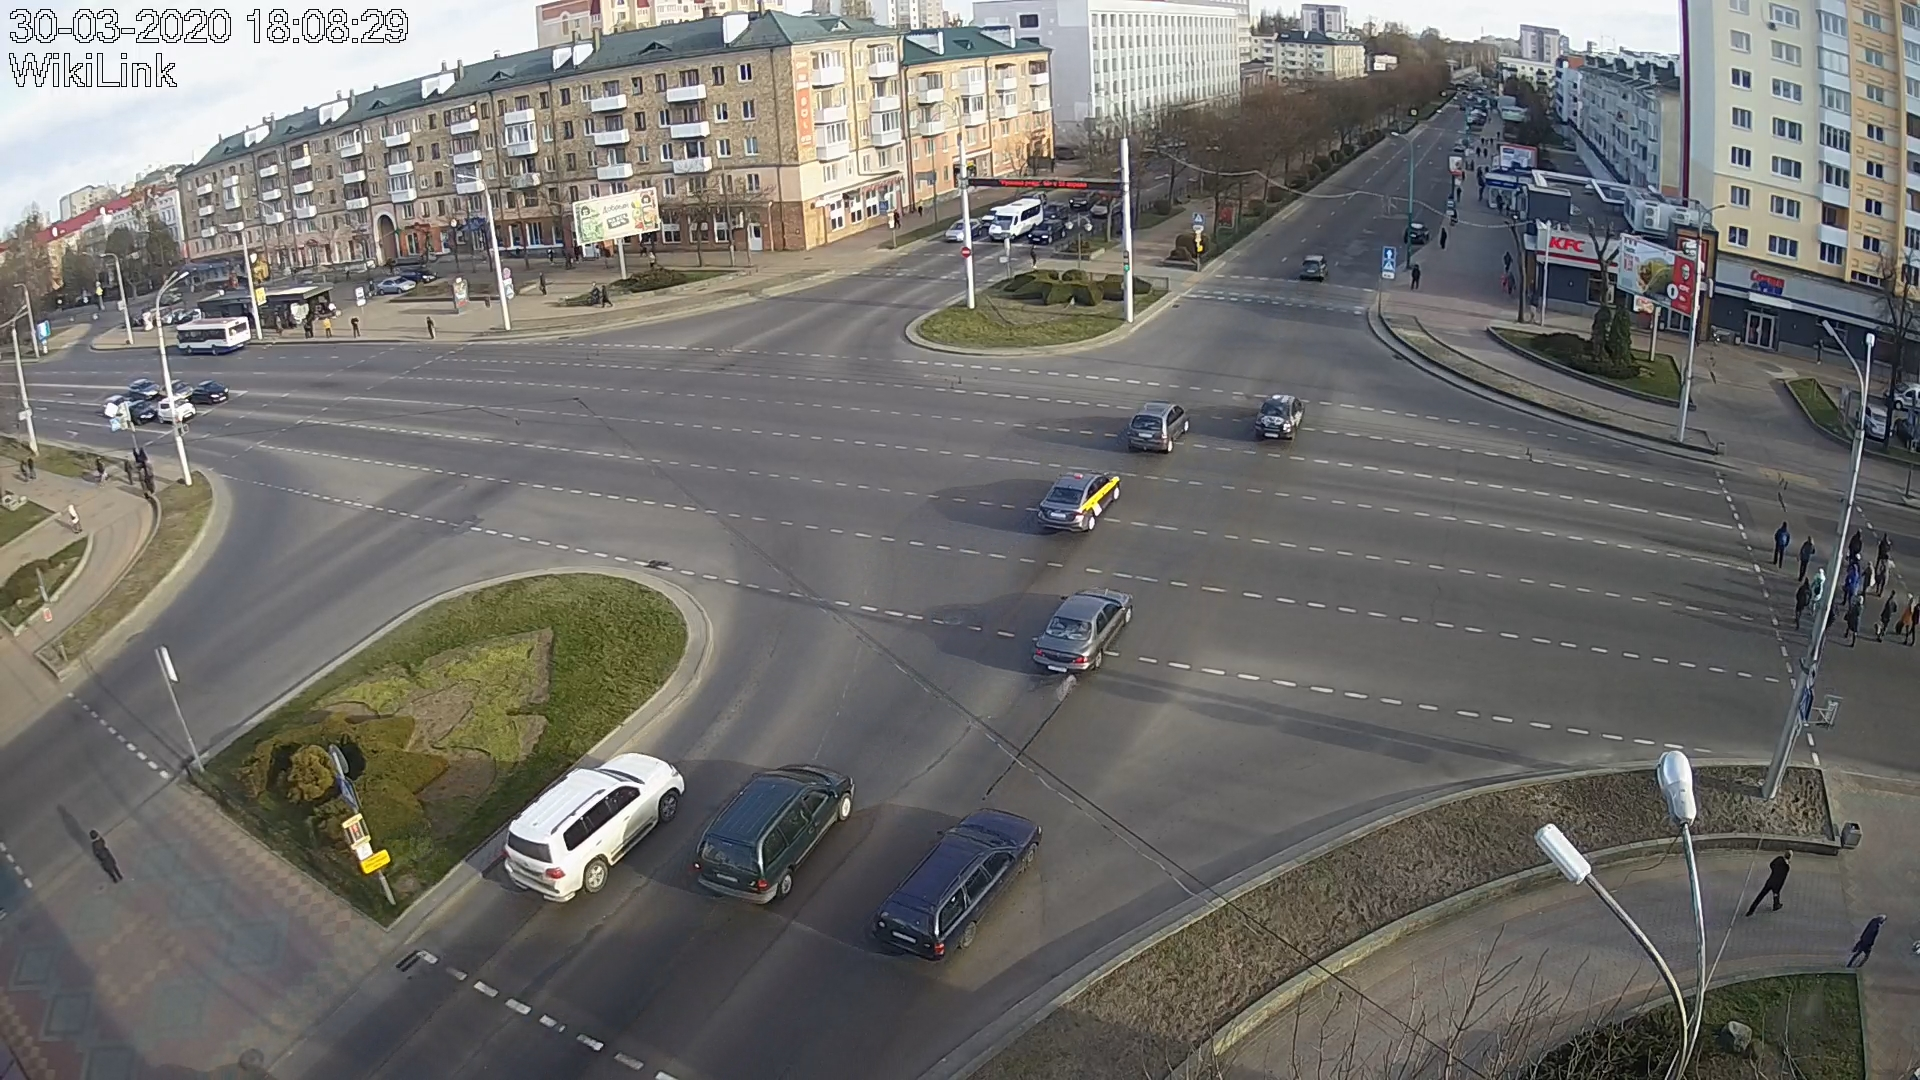bus: (175, 316, 249, 355)
car: (501, 752, 686, 903), (869, 808, 1043, 967), (694, 762, 855, 906), (1033, 587, 1134, 676), (1036, 468, 1121, 531), (1127, 400, 1189, 454), (988, 199, 1044, 243), (1255, 393, 1305, 440), (157, 396, 196, 425), (191, 378, 229, 405), (1027, 219, 1067, 244), (945, 218, 982, 243), (1300, 255, 1328, 281)
